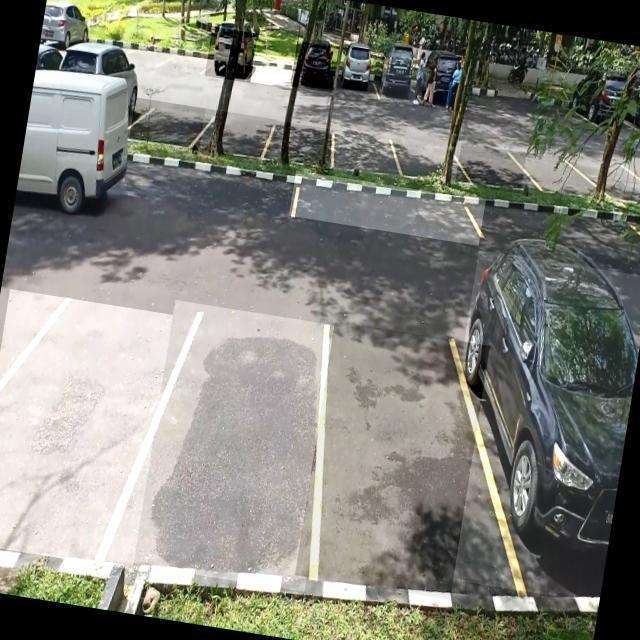empty: (133, 300, 346, 592), (295, 322, 490, 600), (0, 289, 187, 572), (288, 171, 486, 246), (129, 98, 216, 152), (199, 109, 277, 162), (262, 120, 340, 172), (328, 131, 406, 180), (456, 143, 528, 194), (394, 138, 461, 186), (246, 52, 298, 89)
occupied: (427, 250, 640, 603), (204, 26, 258, 84), (374, 51, 427, 106), (335, 46, 386, 102), (290, 41, 340, 94)
